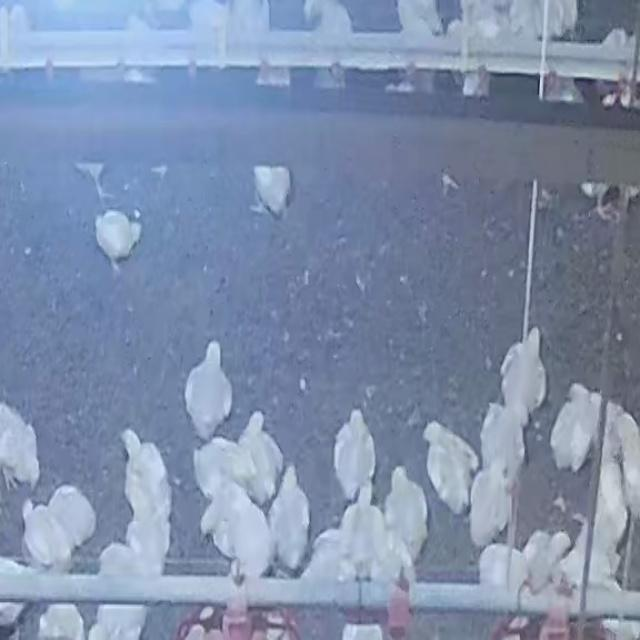chicken: (120, 427, 173, 532), (337, 481, 391, 582), (183, 335, 236, 437), (422, 421, 477, 515), (548, 383, 600, 473), (498, 329, 548, 422), (270, 464, 312, 574), (383, 464, 428, 562), (239, 410, 284, 504), (478, 400, 526, 488), (228, 495, 274, 579), (0, 400, 41, 492), (468, 463, 512, 548), (519, 528, 572, 598), (337, 404, 377, 494), (193, 436, 257, 492), (20, 498, 61, 571), (54, 484, 98, 543), (478, 543, 528, 593), (96, 212, 142, 262)
